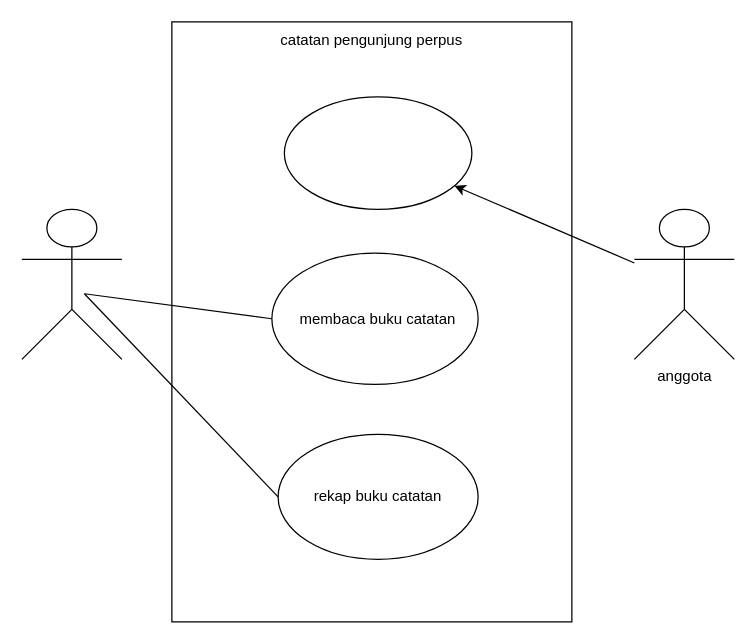
The diagram is 756 pixels wide and 644 high, and some of its shapes have lost their labels. Each missing label, with the centre of its shape:
"mengisi buku catatan" goes at pixel 377 152.
"perpustakawan" goes at pixel 71 283.
